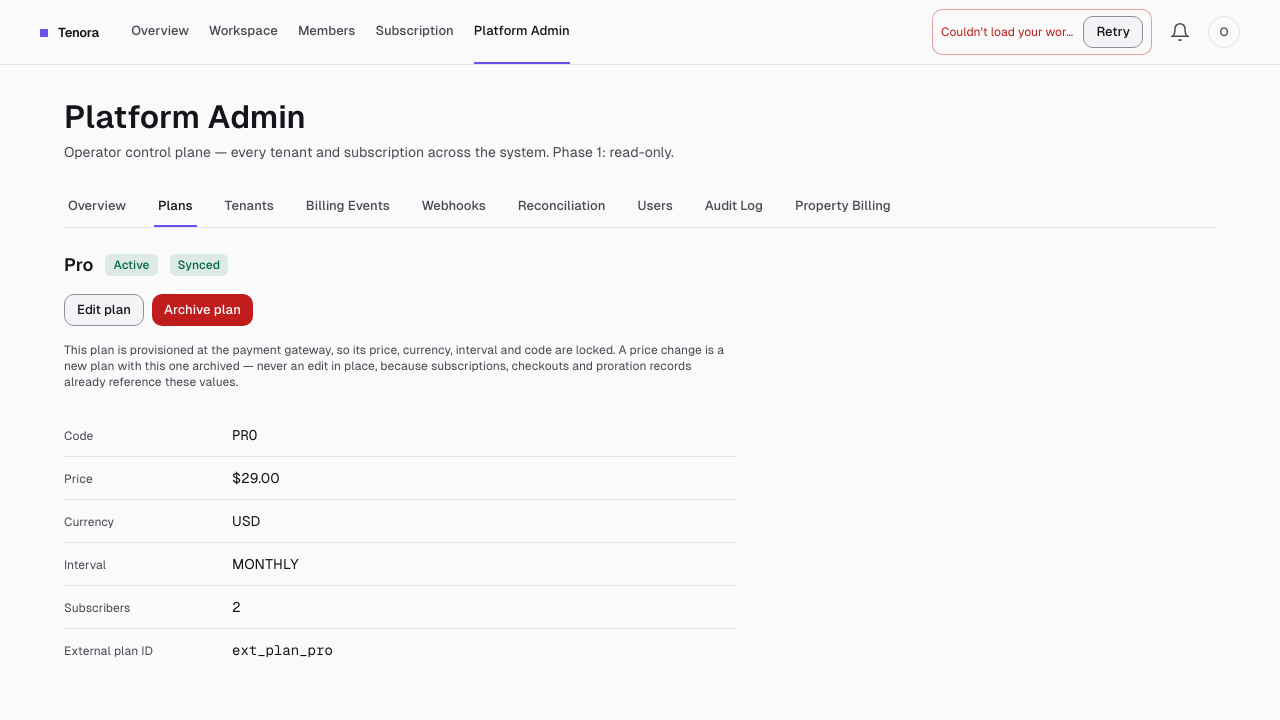
Test case: PlanDetailPage — operator actions (Phase 3) › does not archive when the confirm dialog is cancelled
Expected: the heading "Pro" is shown, x1=64 y1=252 x2=94 y2=278
Click the button "Archive plan" at point(202, 310), box x1=152 y1=294 x2=253 y2=326
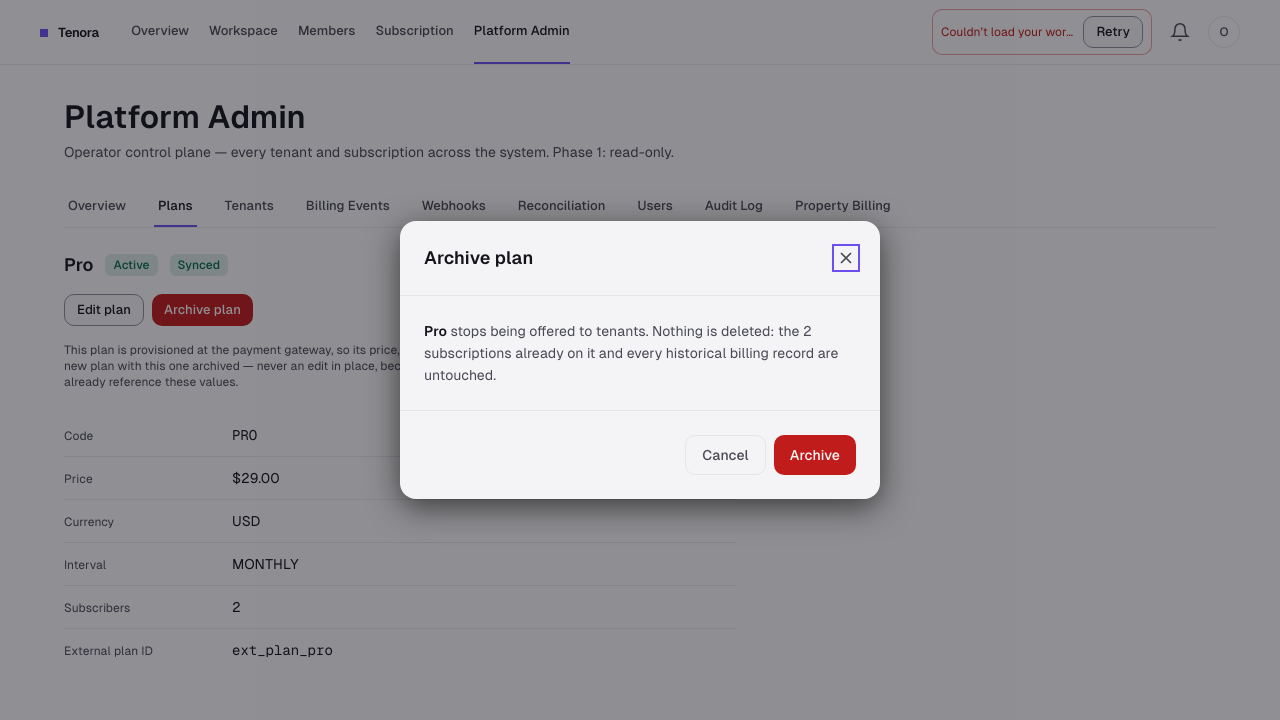
Result: the dialog is shown at x1=400 y1=221 x2=880 y2=499
Click the button "Cancel" at point(726, 455), box x1=685 y1=435 x2=766 y2=475
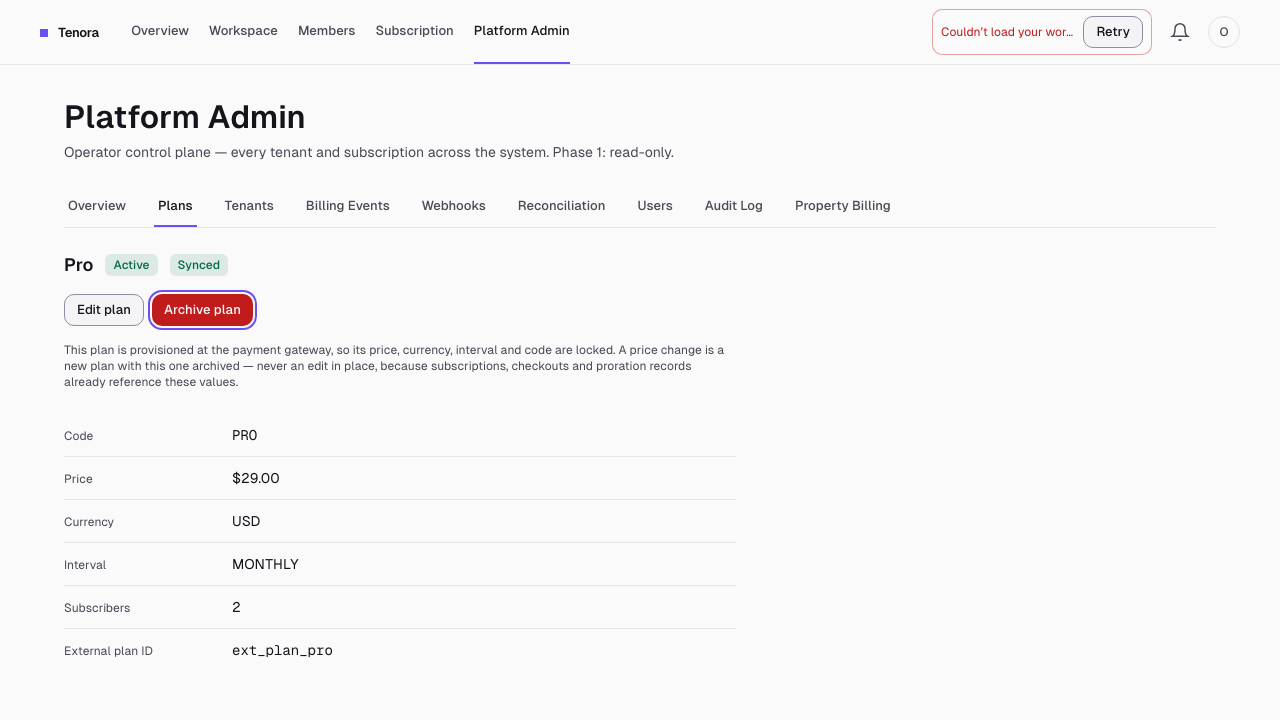
Result: the dialog is gone
